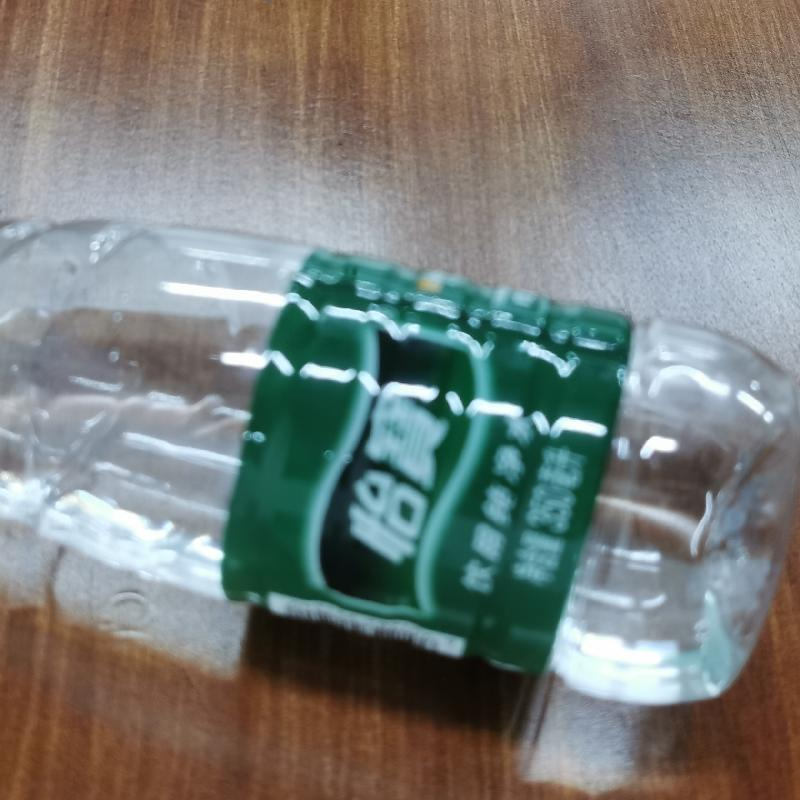bottles: (4, 202, 799, 706)
